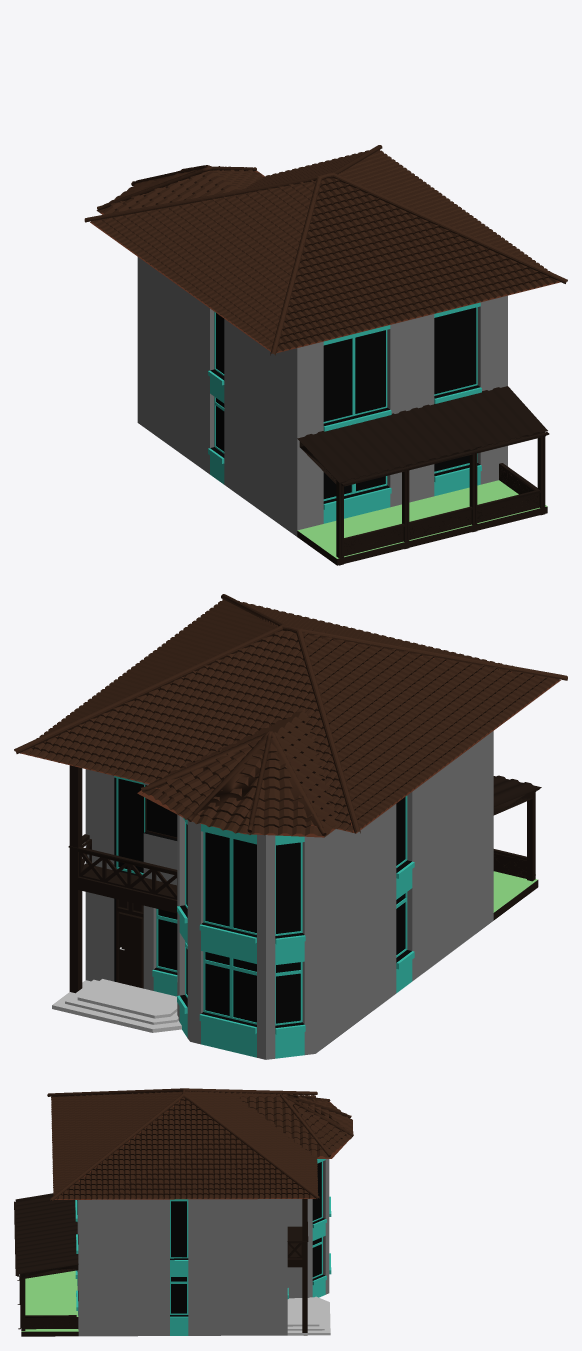
File: house1.FBX
3 views of the same model, one above another, from view 1: azimuth 30°, elevation 25°; view 2: azimuth 150°, elevation 25°; view 3: azimuth 270°, elevation 25° (orthographic). The views are drawn at different scales.
Visible parts, largest first — view 1: Plane004, Plane002, Line002, Group003, Box012, Line011, Box004, Object010, Shape001, Line010, Box011, Box016 (+4 smaller); view 2: Plane002, Plane004, Group003, Object009, Box010, Line011, Line005, Object010, Line010, Shape001, Group001, Line004 (+7 smaller); view 3: Plane002, Plane004, Line002, Box012, Line011, Group003, Object010, Object009, Line005, Box010, Line010, Shape001 (+3 smaller).
Part boxes in pixels (left/top/right/bottom): Plane004: left=91, top=150, right=559, bottom=352; Plane002: left=137, top=257, right=507, bottom=536; Line002: left=297, top=386, right=547, bottom=482; Group003: left=216, top=307, right=476, bottom=499; Box012: left=297, top=480, right=547, bottom=565; Line011: left=84, top=145, right=567, bottom=355; Box004: left=299, top=432, right=545, bottom=565; Object010: left=96, top=169, right=263, bottom=214; Shape001: left=214, top=307, right=477, bottom=500; Line010: left=97, top=165, right=256, bottom=210; Box011: left=344, top=463, right=540, bottom=541; Box016: left=477, top=493, right=539, bottom=522; Plane002: left=85, top=731, right=493, bottom=1059; Plane004: left=20, top=599, right=559, bottom=832; Group003: left=158, top=797, right=405, bottom=1023; Object009: left=144, top=740, right=326, bottom=835; Box010: left=68, top=765, right=177, bottom=993; Line011: left=14, top=594, right=567, bottom=833; Line005: left=52, top=979, right=181, bottom=1032; Object010: left=142, top=708, right=349, bottom=837; Line010: left=141, top=731, right=326, bottom=835; Shape001: left=156, top=796, right=407, bottom=1025; Group001: left=116, top=778, right=145, bottom=875; Line004: left=116, top=899, right=143, bottom=988; Plane002: left=75, top=1159, right=331, bottom=1336; Plane004: left=51, top=1089, right=318, bottom=1199; Line002: left=15, top=1193, right=78, bottom=1273; Box012: left=21, top=1270, right=78, bottom=1336; Line011: left=47, top=1088, right=319, bottom=1201; Group003: left=171, top=1162, right=321, bottom=1313; Object010: left=239, top=1096, right=330, bottom=1157; Object009: left=288, top=1096, right=353, bottom=1154; Line005: left=287, top=1296, right=330, bottom=1335; Box010: left=287, top=1199, right=308, bottom=1335; Line010: left=280, top=1094, right=353, bottom=1156; Shape001: left=170, top=1161, right=322, bottom=1314.
Size of what is drawn, in the model's own units: 416 by 374 by 907.
